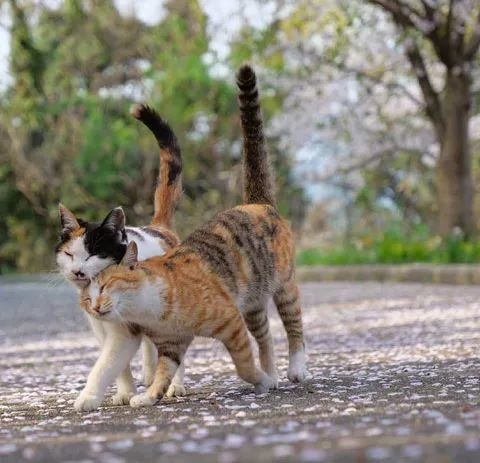cat: (78, 66, 309, 407), (55, 104, 183, 407)
